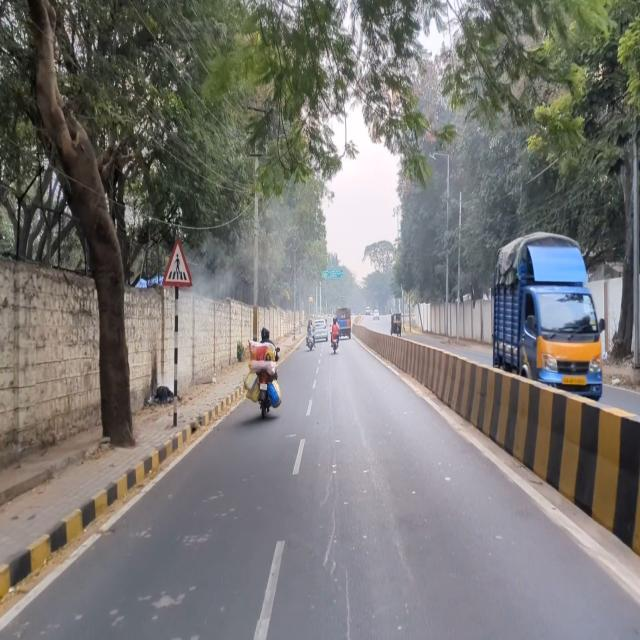bien_cam: (162, 234, 193, 288)
